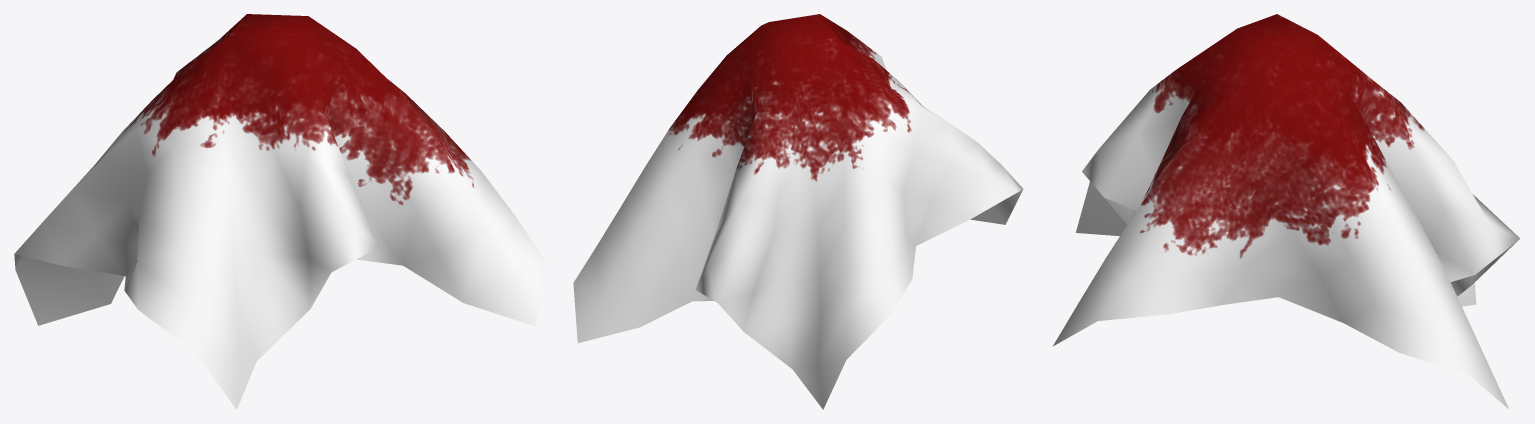
File: blood cloth.FBX
3 renders of one model, left to right at view 1: azimuth 30°, elevation 25°; view 2: azimuth 150°, elevation 25°; view 3: azimuth 270°, elevation 25°, orthographic. The views are drawn at different scales.
Visible parts, largest first — view 1: Plane001; view 2: Plane001; view 3: Plane001.
Part boxes in pixels (x1,y1,x2,y2): Plane001: (14, 14, 544, 409); Plane001: (573, 14, 1023, 409); Plane001: (1053, 14, 1520, 409).
Bounding box in the file's own units: 44.91 × 39.51 × 49.84.
Materials: 1 (1 with a texture image).
